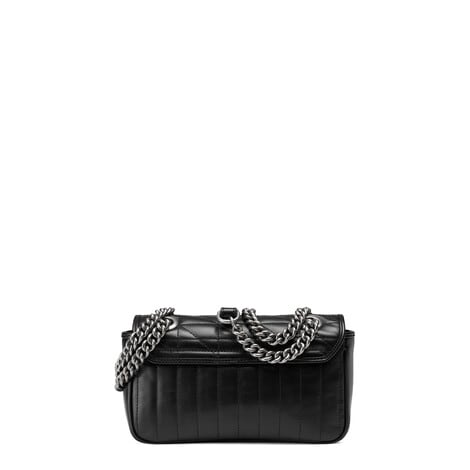Gucci: (136, 312, 371, 446)
